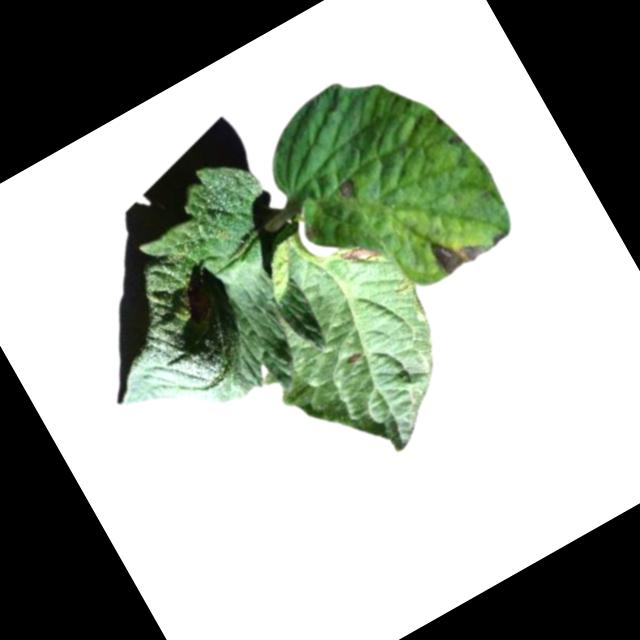Early_blight: (427, 207, 511, 278), (337, 233, 387, 279), (335, 176, 363, 205), (343, 349, 365, 369)
